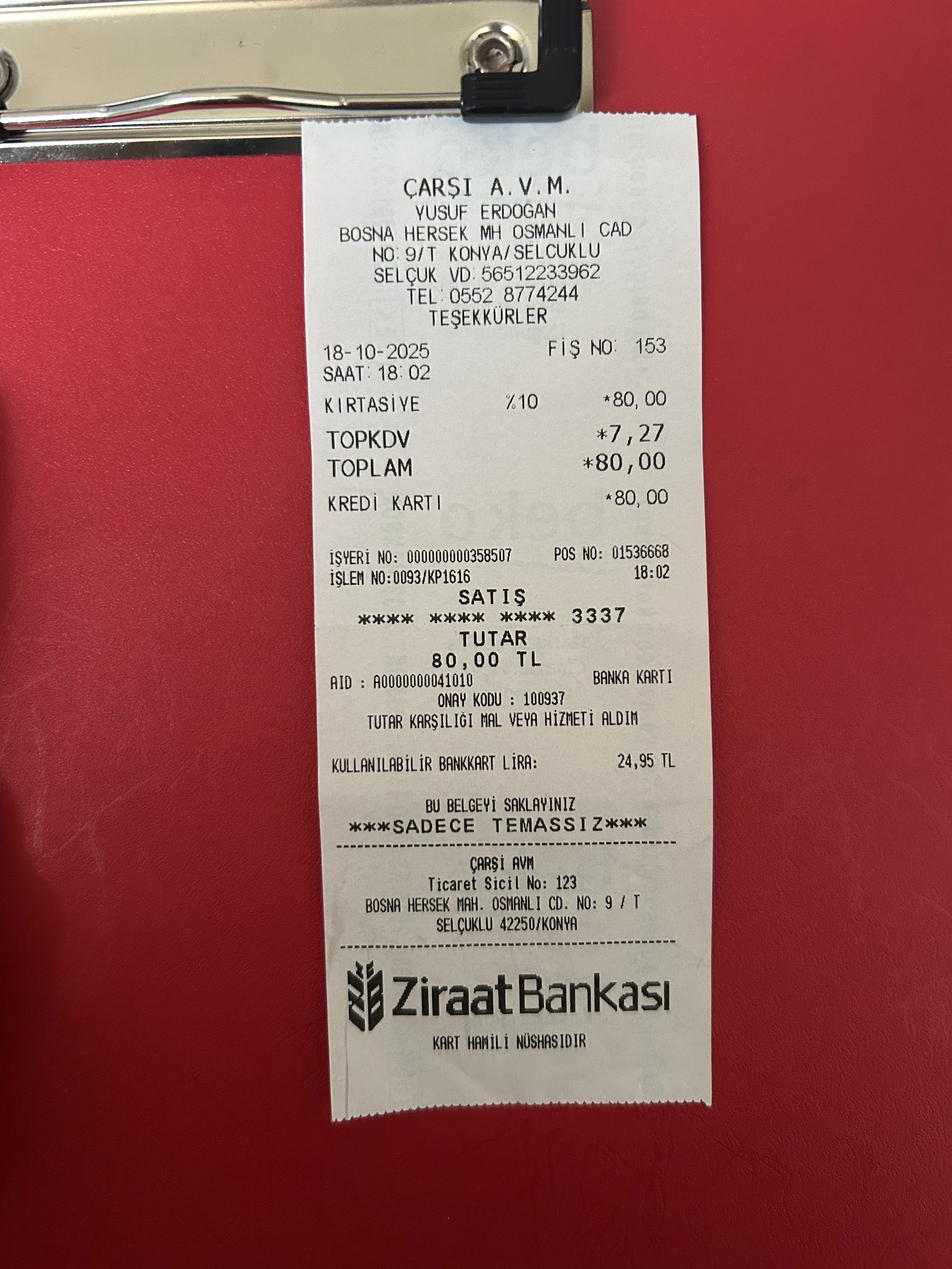date: (319, 338, 435, 363)
price: (423, 646, 549, 671)
workplace: (336, 170, 655, 265)
